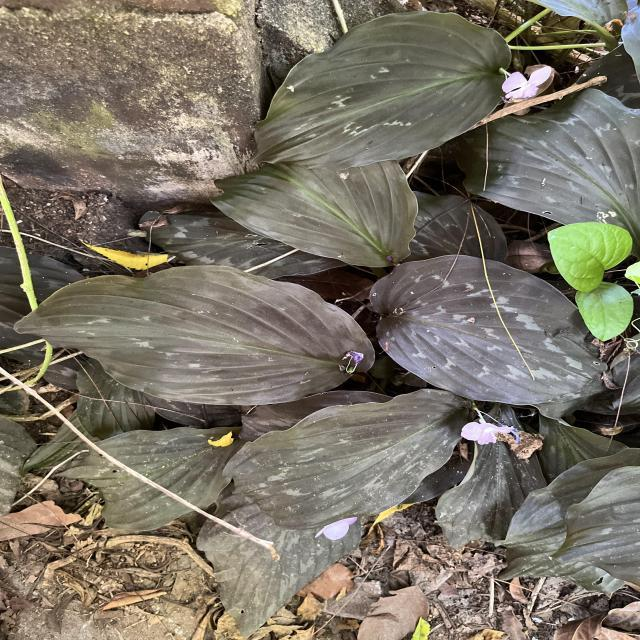Kaempferia galanga linn: (11, 262, 378, 407), (246, 7, 514, 173), (218, 386, 473, 534), (368, 253, 612, 406)
